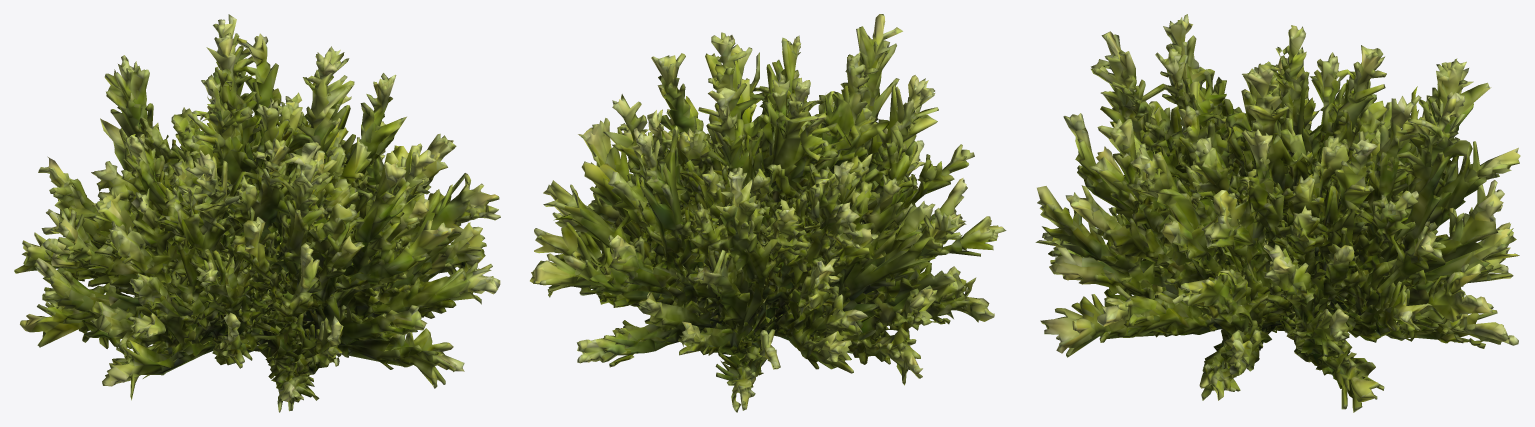
The model's file is weedbush.glb.
The picture shows the model from 3 angles, left to right: view 1: azimuth 30°, elevation 25°; view 2: azimuth 150°, elevation 25°; view 3: azimuth 270°, elevation 25°; orthographic projection. The views are drawn at different scales.
Size of the model in its own units: 1.99 by 1.27 by 1.99.
Materials: 1 (1 with a texture image).
